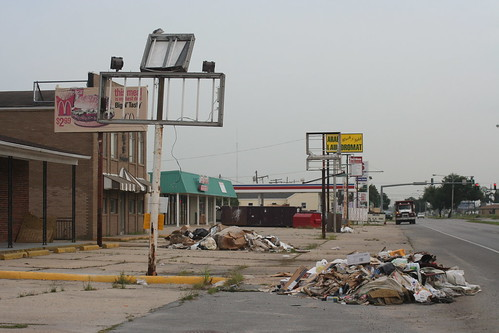building: (1, 90, 146, 227), (235, 177, 367, 221), (150, 165, 232, 228)
sign: (91, 26, 231, 125), (304, 131, 350, 174)
sky: (229, 1, 499, 145)
trash: (281, 238, 480, 316), (158, 222, 297, 263)
